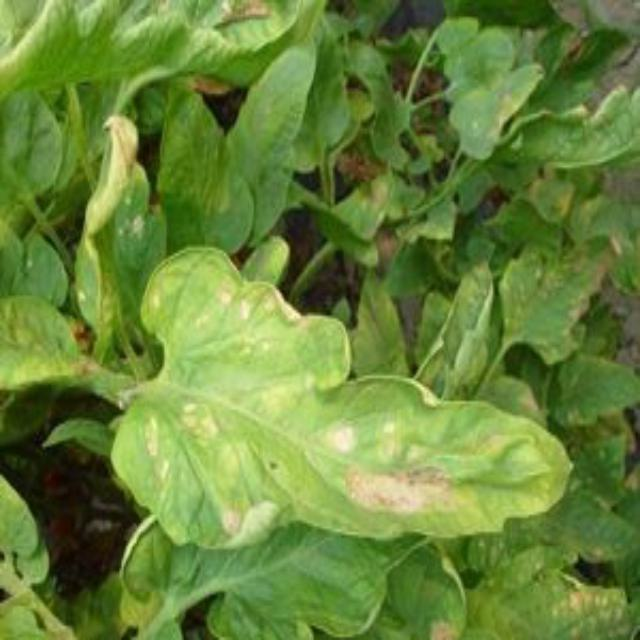Early_blight: (345, 461, 454, 518), (564, 232, 624, 328), (217, 278, 311, 336), (554, 583, 628, 640), (99, 116, 144, 184), (327, 417, 358, 456), (216, 507, 245, 539), (188, 74, 227, 96), (428, 615, 462, 640)
